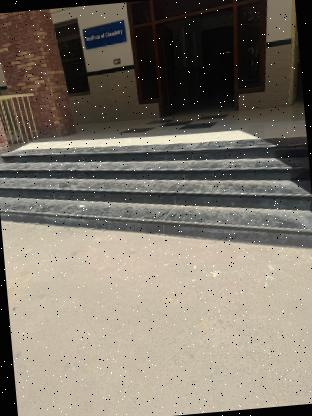door: (119, 0, 275, 128)
stair: (0, 121, 312, 272)
